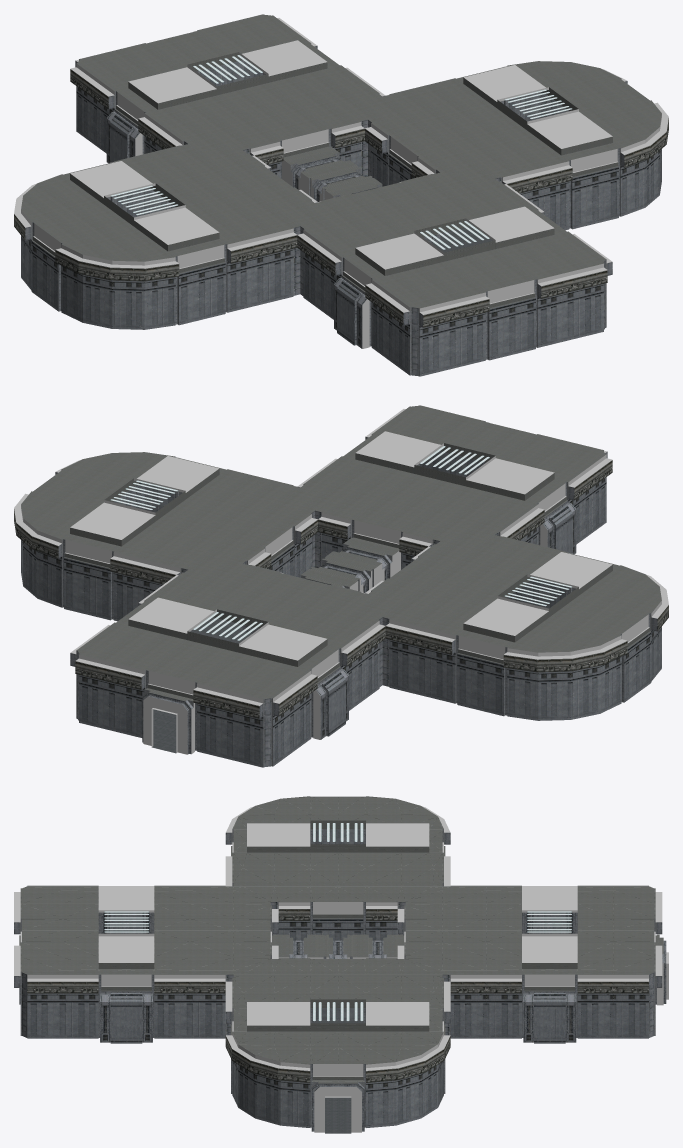
File: poi_all_impl_bunker_warren_s01_r84_plusroom84_mesh_r84.fbx
3 views of the same model, one above another, from view 1: azimuth 30°, elevation 25°; view 2: azimuth 150°, elevation 25°; view 3: azimuth 270°, elevation 25° (orthographic). The views are drawn at different scales.
Visible parts, largest first — view 1: mesh_node; view 2: mesh_node; view 3: mesh_node.
Boxes of the visible parts, box(x1,y1,x2,y2) form: mesh_node: box(14, 14, 668, 376); mesh_node: box(14, 405, 668, 767); mesh_node: box(14, 796, 668, 1133).
Size of the model in its own units: 49.5 by 6 by 49.5.
